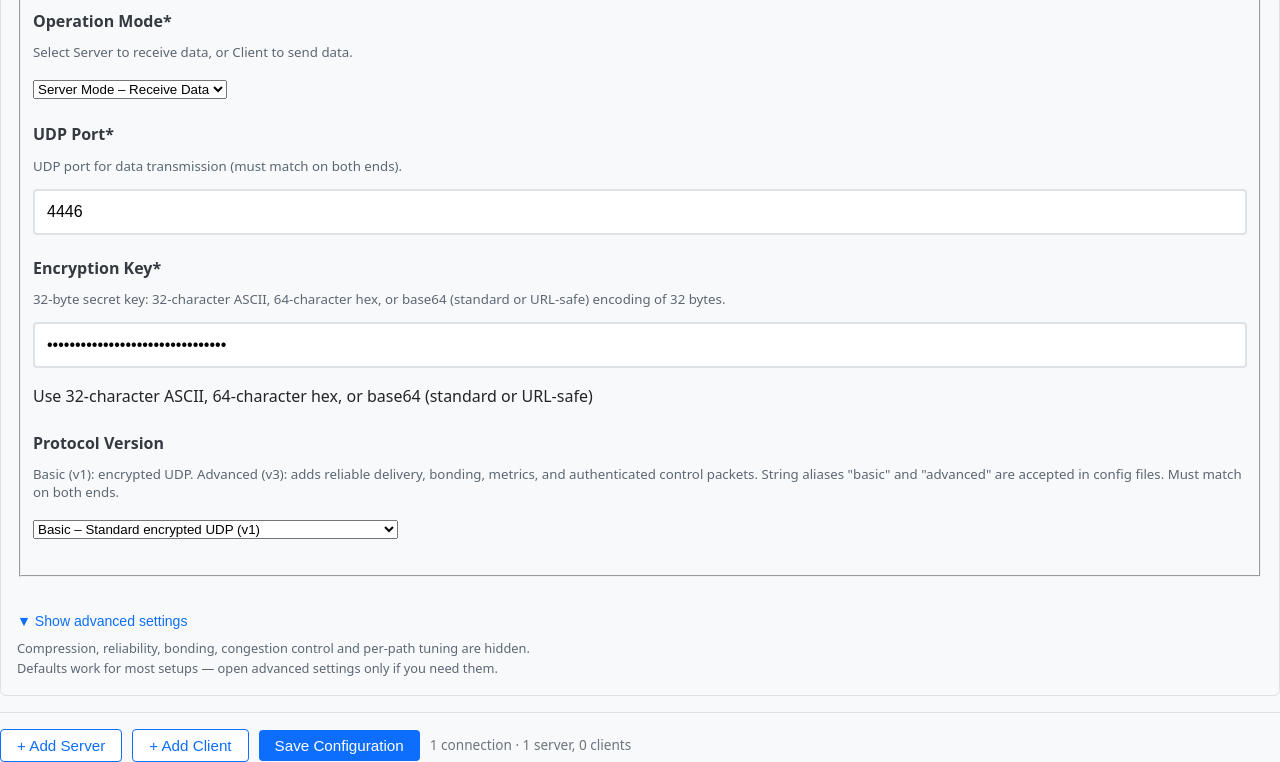
Test: PluginConfigurationPanel › dirty banner appears after adding a connection
The width and height of the screenshot is (1280, 762).
(page scrolled)
Click the button "+ Add Server".
click(61, 745)  # box [0,729,122,761]
(page scrolled)
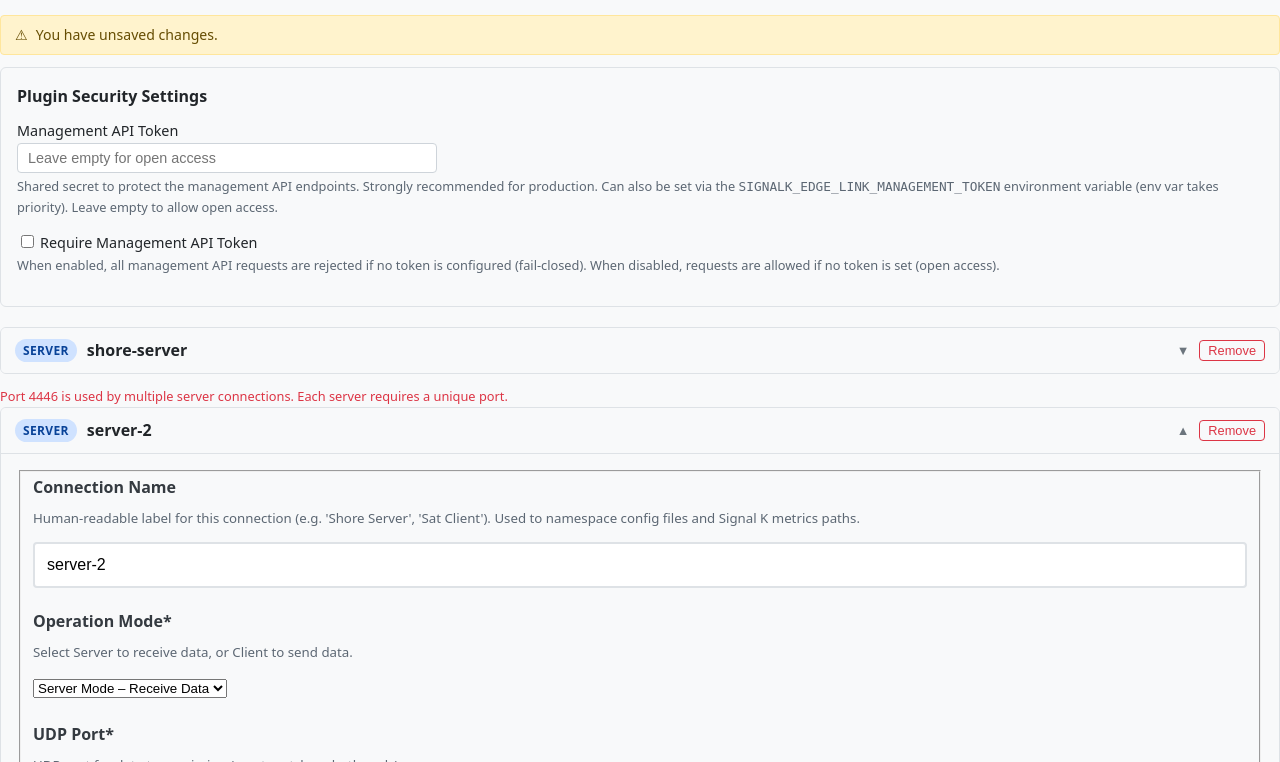
Result: the text "You have unsaved changes." is shown at [36,24,218,46]
